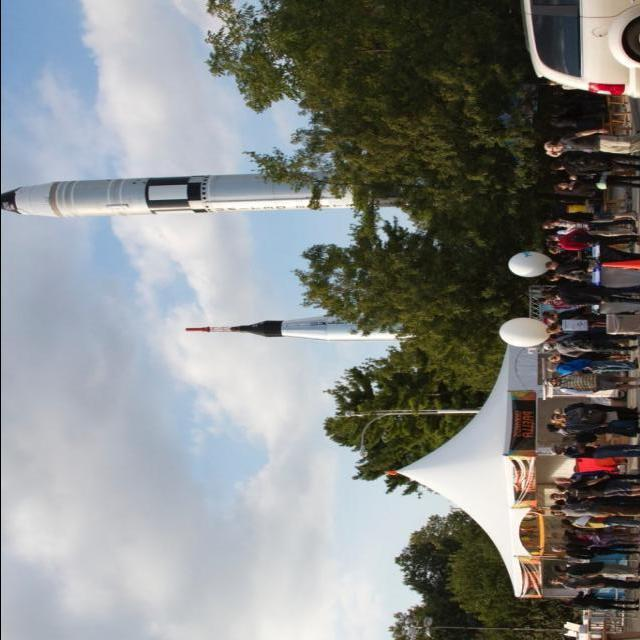missile: (0, 165, 406, 217), (180, 311, 403, 340)
